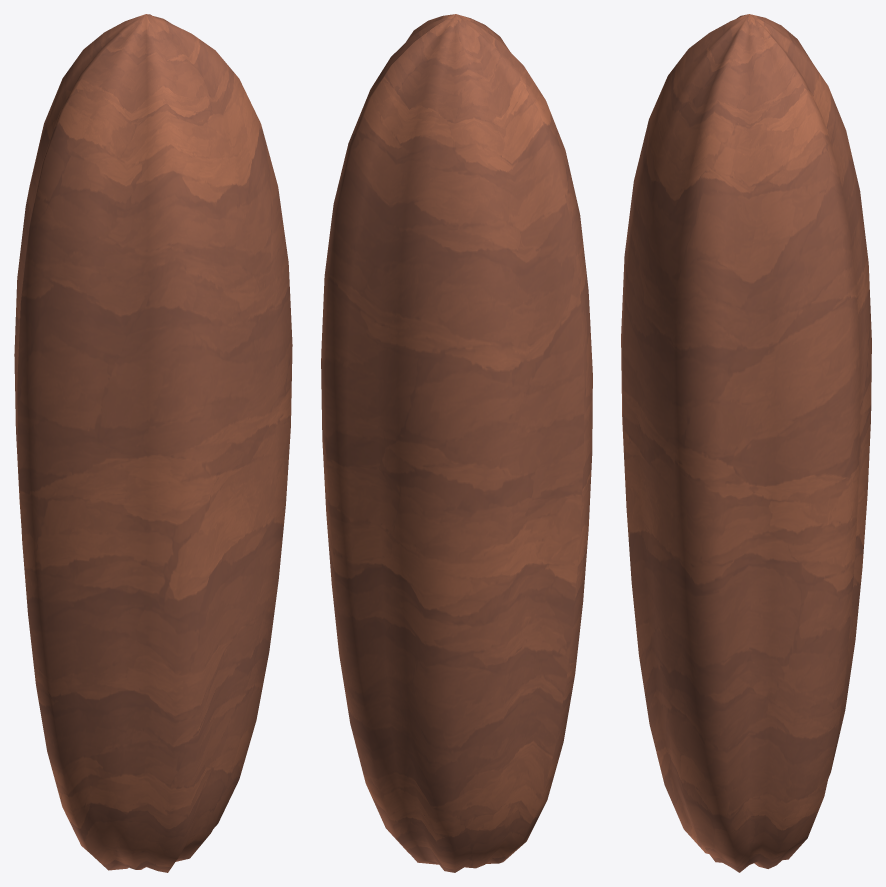
Rendered from rock_1.glb.
3 views of the same model, side by side, from view 1: azimuth 30°, elevation 25°; view 2: azimuth 150°, elevation 25°; view 3: azimuth 270°, elevation 25° (orthographic).
Visible parts, largest first — view 1: rock_1; view 2: rock_1; view 3: rock_1.
Part boxes in pixels (box(x1,y1,x2,y2)): rock_1: box(14, 14, 292, 872); rock_1: box(321, 14, 592, 872); rock_1: box(621, 14, 871, 872).
Size of the model in its own units: 1.64 by 5.3 by 1.43.
Materials: 1 (1 with a texture image).
